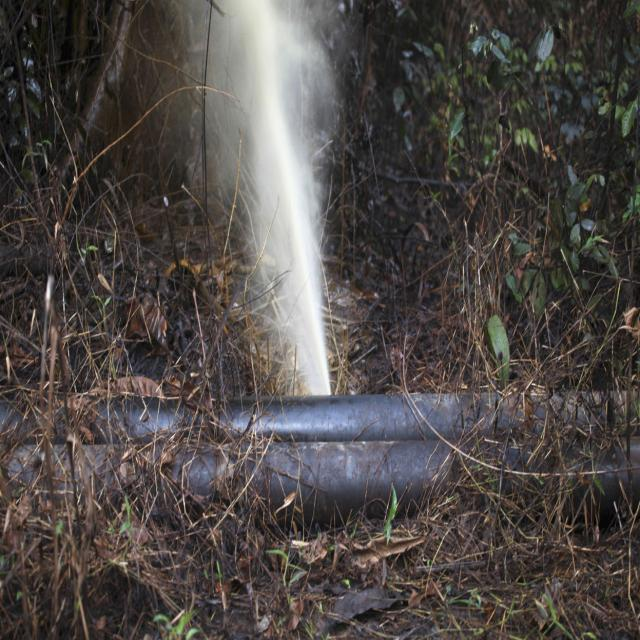leak: (165, 0, 339, 401)
